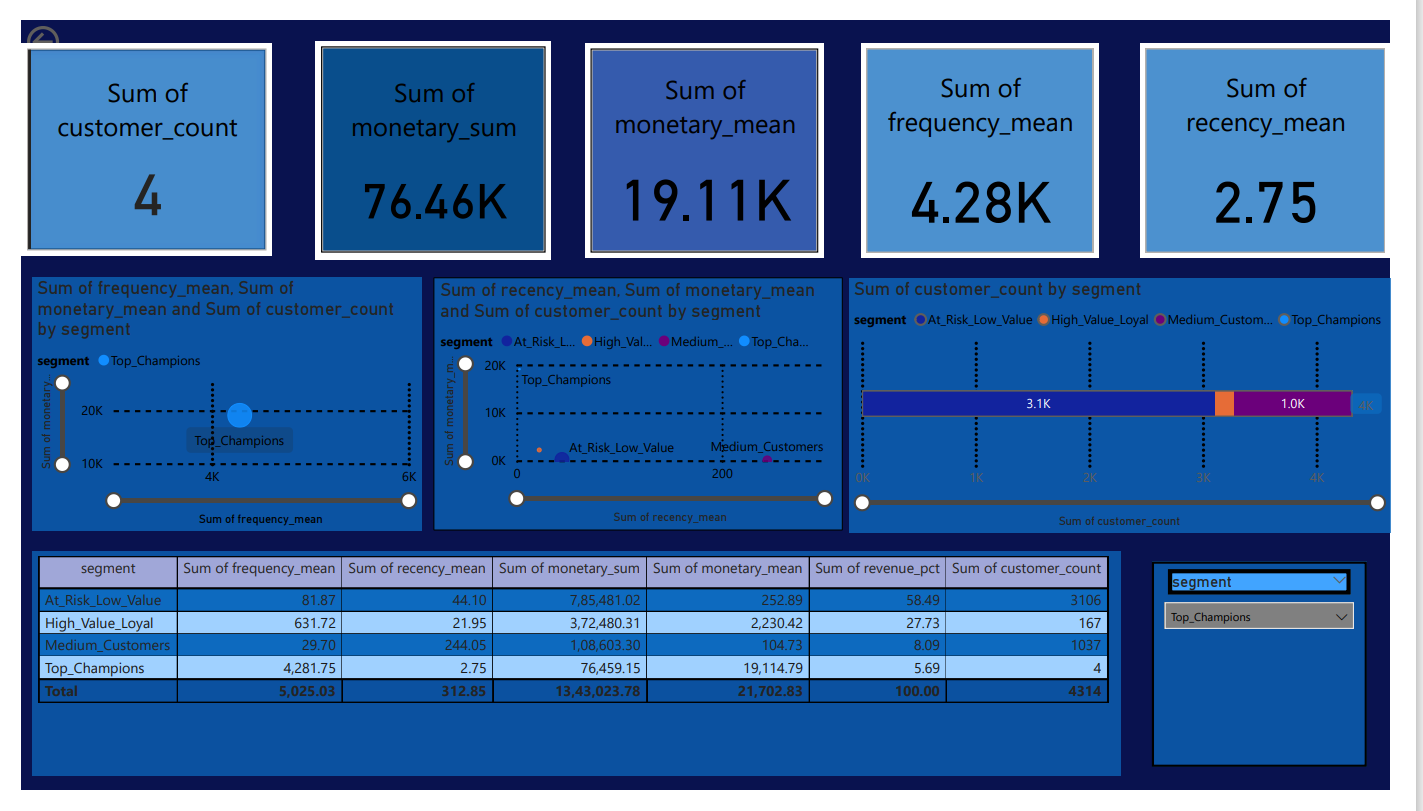

Layout of this report page (visuals, bound fields, positions):
{"tool":"powerbi","page":{"name":"Page 1","canvas":[1280,720],"ordinal":0},"visuals":[{"type":"scatterChart","fields":{"X":["Sum(RFM_SegmentSummary_Enhanced.frequency_mean)"],"Y":["Sum(RFM_SegmentSummary_Enhanced.monetary_mean)"],"Series":["RFM_SegmentSummary_Enhanced.segment"],"Size":["Sum(RFM_SegmentSummary_Enhanced.customer_count)"]},"box":[10,240,364,237],"z":0},{"type":"scatterChart","fields":{"X":["Sum(RFM_SegmentSummary_Enhanced.recency_mean)"],"Y":["Sum(RFM_SegmentSummary_Enhanced.monetary_mean)"],"Series":["RFM_SegmentSummary_Enhanced.segment"],"Size":["Sum(RFM_SegmentSummary_Enhanced.customer_count)"]},"box":[385,240,383,237],"z":1000},{"type":"barChart","fields":{"Y":["Sum(RFM_SegmentSummary_Enhanced.customer_count)"],"Series":["RFM_SegmentSummary_Enhanced.segment"]},"box":[773.8,241.2,506.2,237.5],"z":2000},{"type":"slicer","fields":{"Values":["RFM_SegmentSummary_Enhanced.segment"]},"box":[1056.7,505.5,201.7,192.1],"z":3000},{"type":"tableEx","fields":{"Values":["RFM_SegmentSummary_Enhanced.segment","Sum(RFM_SegmentSummary_Enhanced.frequency_mean)","Sum(RFM_SegmentSummary_Enhanced.recency_mean)","Sum(RFM_SegmentSummary_Enhanced.monetary_sum)","Sum(RFM_SegmentSummary_Enhanced.monetary_mean)","Sum(RFM_SegmentSummary_Enhanced.revenue_pct)","Sum(RFM_SegmentSummary_Enhanced.customer_count)"]},"box":[10,496,1018,210],"z":4000},{"type":"actionButton","box":[0,0,100,40],"z":5000},{"type":"cardVisual","fields":{"Data":["Sum(RFM_SegmentSummary_Enhanced.customer_count)","select"]},"box":[0,21,234,199],"z":6000},{"type":"cardVisual","fields":{"Data":["Sum(RFM_SegmentSummary_Enhanced.monetary_sum)"]},"box":[275,18.8,220,203.8],"z":7000},{"type":"cardVisual","fields":{"Data":["Sum(RFM_SegmentSummary_Enhanced.monetary_mean)"]},"box":[527,21,223,201],"z":8000},{"type":"cardVisual","fields":{"Data":["Sum(RFM_SegmentSummary_Enhanced.frequency_mean)"]},"box":[785,21,222,201],"z":9000},{"type":"cardVisual","fields":{"Data":["Sum(RFM_SegmentSummary_Enhanced.recency_mean)"]},"box":[1046,21,234,201],"z":10000}]}

Visuals, with their boxes in screenshot pixels (x1, y1, x2, y2), scaled from the page's 1280x720 canvas onto the 1423x811 screenshot:
scatterChart - Sum(RFM_SegmentSummary_Enhanced.frequency_mean) x Sum(RFM_SegmentSummary_Enhanced.monetary_mean): bbox(11, 270, 416, 537)
scatterChart - Sum(RFM_SegmentSummary_Enhanced.recency_mean) x Sum(RFM_SegmentSummary_Enhanced.monetary_mean): bbox(428, 270, 854, 537)
barChart - Sum(RFM_SegmentSummary_Enhanced.customer_count) x RFM_SegmentSummary_Enhanced.segment: bbox(860, 272, 1422, 539)
slicer - RFM_SegmentSummary_Enhanced.segment: bbox(1175, 569, 1399, 786)
tableEx - RFM_SegmentSummary_Enhanced.segment x Sum(RFM_SegmentSummary_Enhanced.frequency_mean): bbox(11, 559, 1143, 795)
actionButton: bbox(0, 0, 111, 45)
cardVisual - Sum(RFM_SegmentSummary_Enhanced.customer_count) x select: bbox(0, 24, 260, 248)
cardVisual - Sum(RFM_SegmentSummary_Enhanced.monetary_sum): bbox(306, 21, 550, 251)
cardVisual - Sum(RFM_SegmentSummary_Enhanced.monetary_mean): bbox(586, 24, 834, 250)
cardVisual - Sum(RFM_SegmentSummary_Enhanced.frequency_mean): bbox(873, 24, 1120, 250)
cardVisual - Sum(RFM_SegmentSummary_Enhanced.recency_mean): bbox(1163, 24, 1422, 250)
